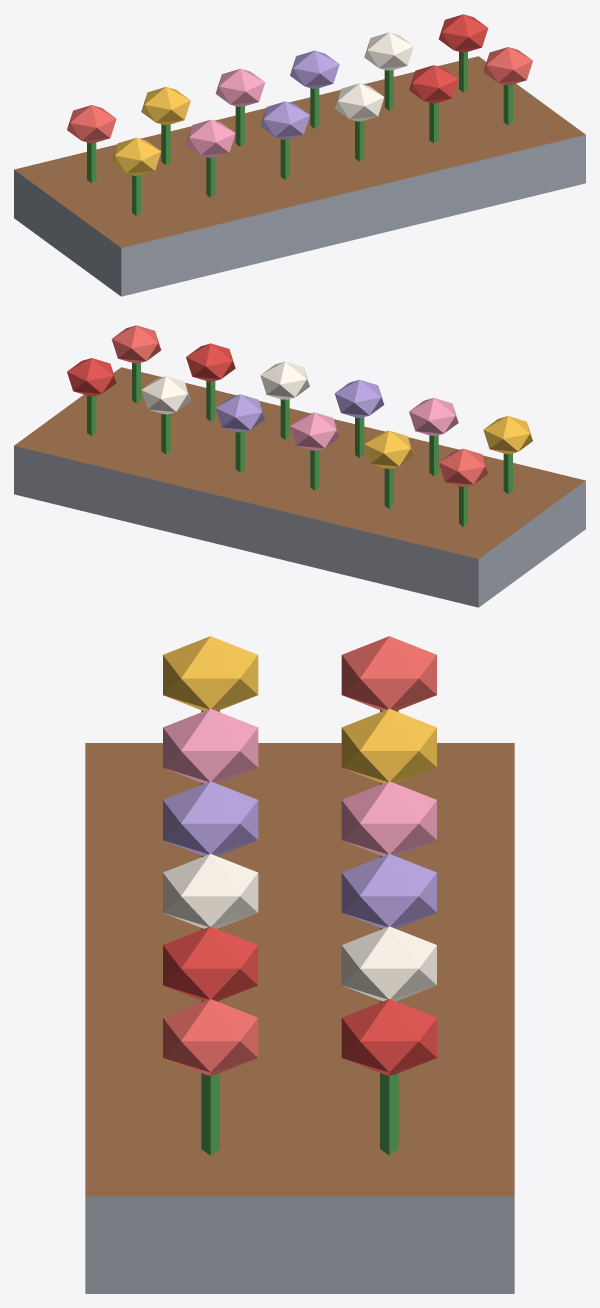
Rendered from plant_flower_bed.glb.
3 renders of one model, top to bottom at view 1: azimuth 30°, elevation 25°; view 2: azimuth 150°, elevation 25°; view 3: azimuth 270°, elevation 25°, orthographic. The views are drawn at different scales.
Visible parts, largest first — view 1: plant_flower_bed; view 2: plant_flower_bed; view 3: plant_flower_bed.
Part boxes in pixels (bbox=[...]): plant_flower_bed: bbox=[14, 14, 585, 296]; plant_flower_bed: bbox=[14, 325, 585, 607]; plant_flower_bed: bbox=[85, 636, 514, 1293].
Size of the model in its own units: 0.3 by 0.077 by 0.12.
